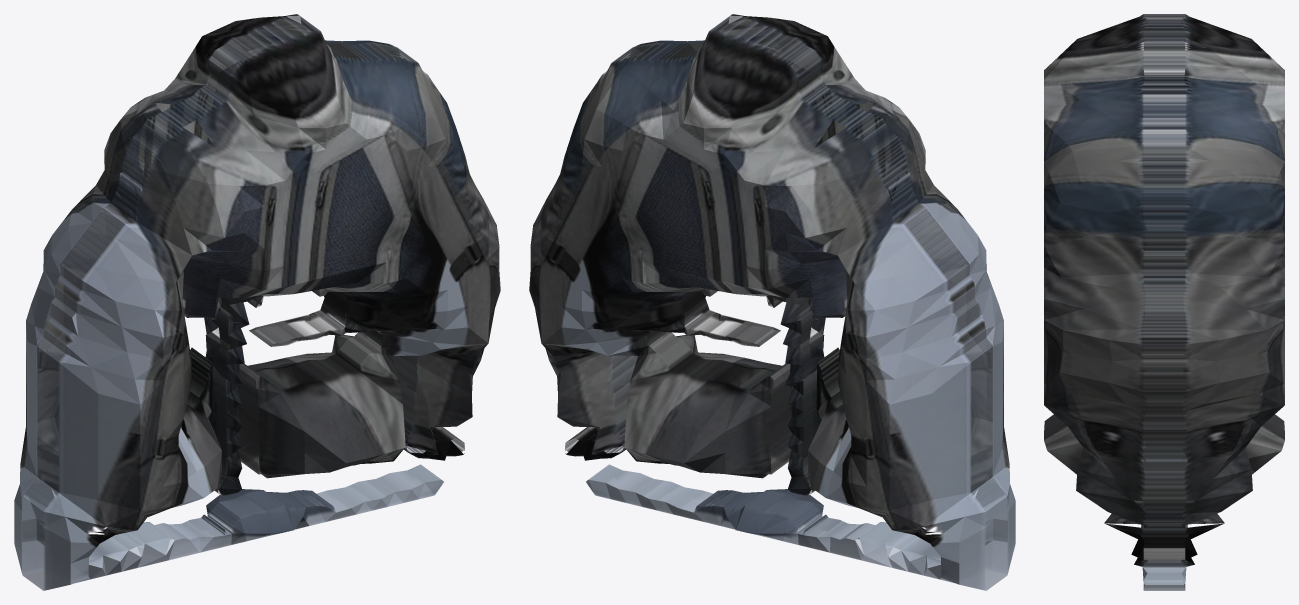
The model's file is kriega-horizon-mesh-jacket-018.glb.
The picture shows the model from 3 angles, left to right: view 1: azimuth 30°, elevation 25°; view 2: azimuth 150°, elevation 25°; view 3: azimuth 270°, elevation 25°; orthographic projection.
Visible parts, largest first — view 1: world; view 2: world; view 3: world.
Boxes of the visible parts, left/top/right/bottom form: world: left=14, top=14, right=500, bottom=590; world: left=529, top=14, right=1015, bottom=590; world: left=1044, top=14, right=1284, bottom=590.
Bounding box in the file's own units: 0.9427 × 1 × 0.44.
1 material, 1 textured.
